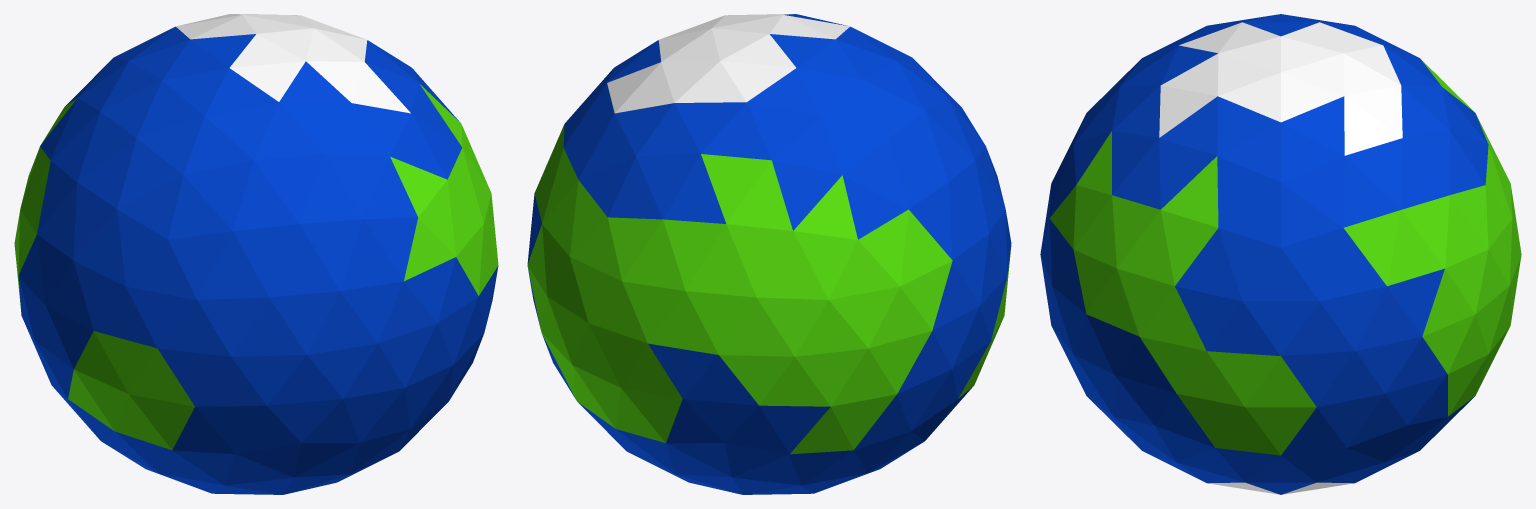
Rendered from EarthMidRes.FBX.
The picture shows the model from 3 angles, left to right: view 1: azimuth 30°, elevation 25°; view 2: azimuth 150°, elevation 25°; view 3: azimuth 270°, elevation 25°; orthographic projection.
Parts seen in each view (by area): view 1: GeoSphere002; view 2: GeoSphere002; view 3: GeoSphere002.
Part boxes in pixels (x1=…): GeoSphere002: x1=14, y1=14, x2=498, y2=494; GeoSphere002: x1=527, y1=14, x2=1011, y2=494; GeoSphere002: x1=1040, y1=14, x2=1521, y2=494.
Size of the model in its own units: 84 by 84 by 84.
